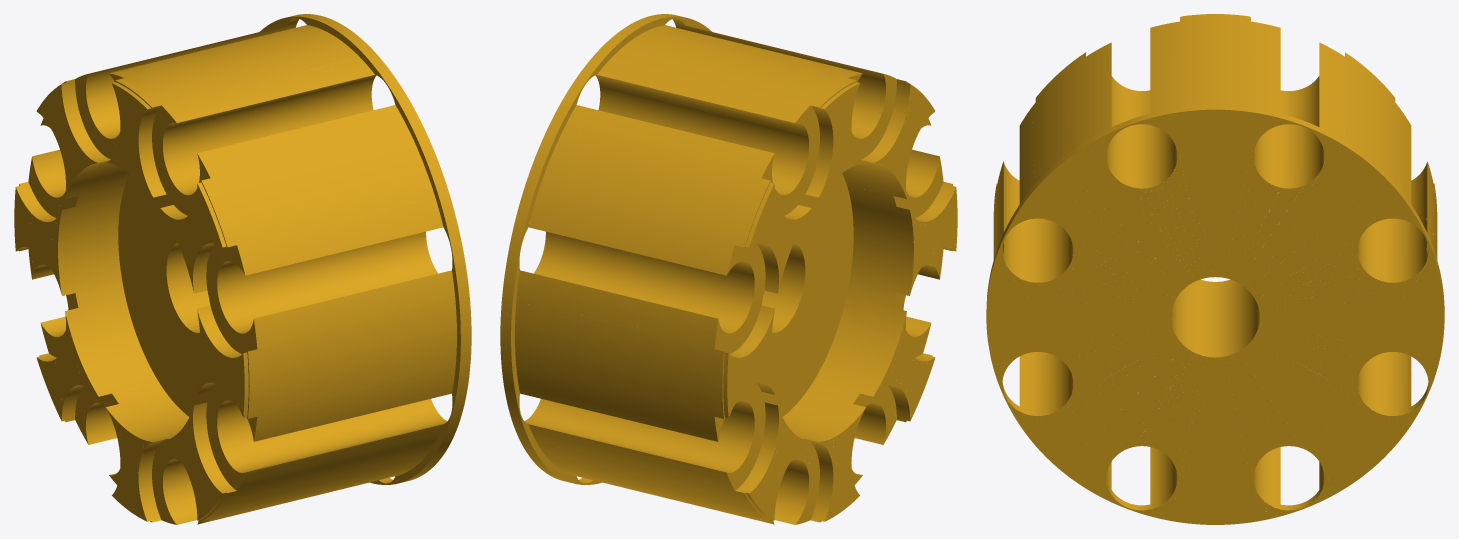
Rendered from takoz-montabert-brh-501-top-buffer-02.glb.
The picture shows the model from 3 angles, left to right: view 1: azimuth 30°, elevation 25°; view 2: azimuth 150°, elevation 25°; view 3: azimuth 270°, elevation 25°; orthographic projection. The views are drawn at different scales.
Visible parts, largest first — view 1: body; view 2: body; view 3: body.
Boxes of the visible parts, left/top/right/bottom form: body: left=14, top=14, right=471, bottom=524; body: left=500, top=14, right=957, bottom=524; body: left=986, top=14, right=1444, bottom=524.
Size of the model in its own units: 0.166 by 0.31 by 0.31.
